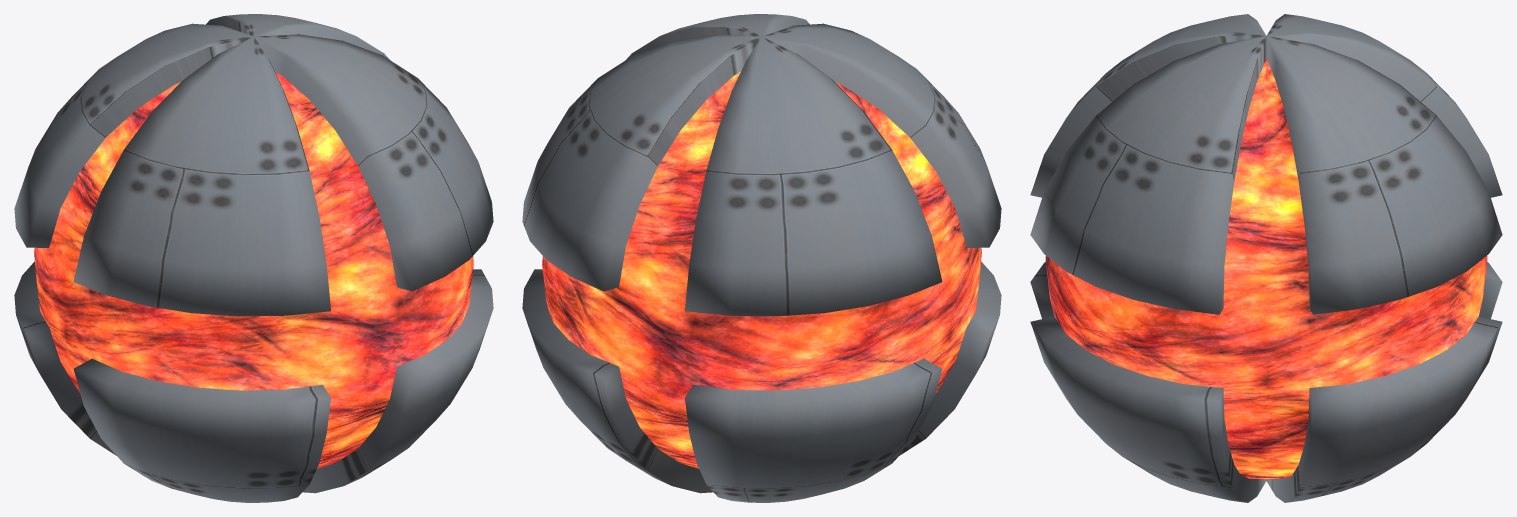
Rendered from Bomb.glb.
3 renders of one model, left to right at view 1: azimuth 30°, elevation 25°; view 2: azimuth 150°, elevation 25°; view 3: azimuth 270°, elevation 25°, orthographic.
Visible parts, largest first — view 1: Sphere; view 2: Sphere; view 3: Sphere.
Part boxes in pixels (bbox=[...]): Sphere: bbox=[14, 14, 493, 502]; Sphere: bbox=[522, 14, 1001, 502]; Sphere: bbox=[1030, 14, 1502, 502].
Bounding box in the file's own units: 3.85 × 4 × 3.85.
2 materials, 2 textured.
